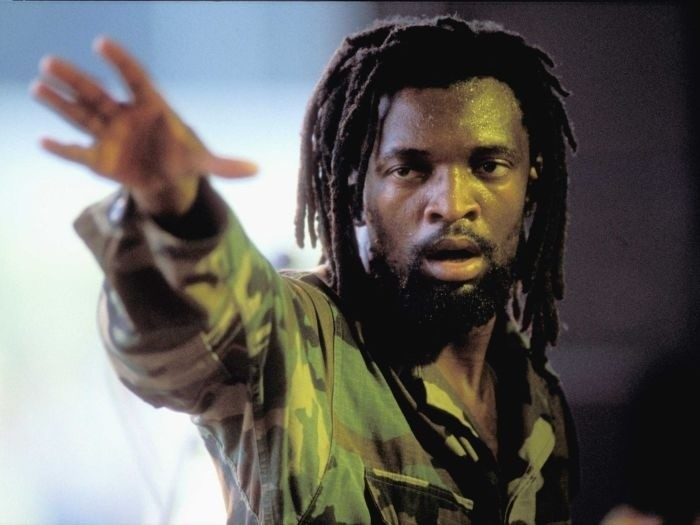face_no_mask: (325, 25, 561, 319)
